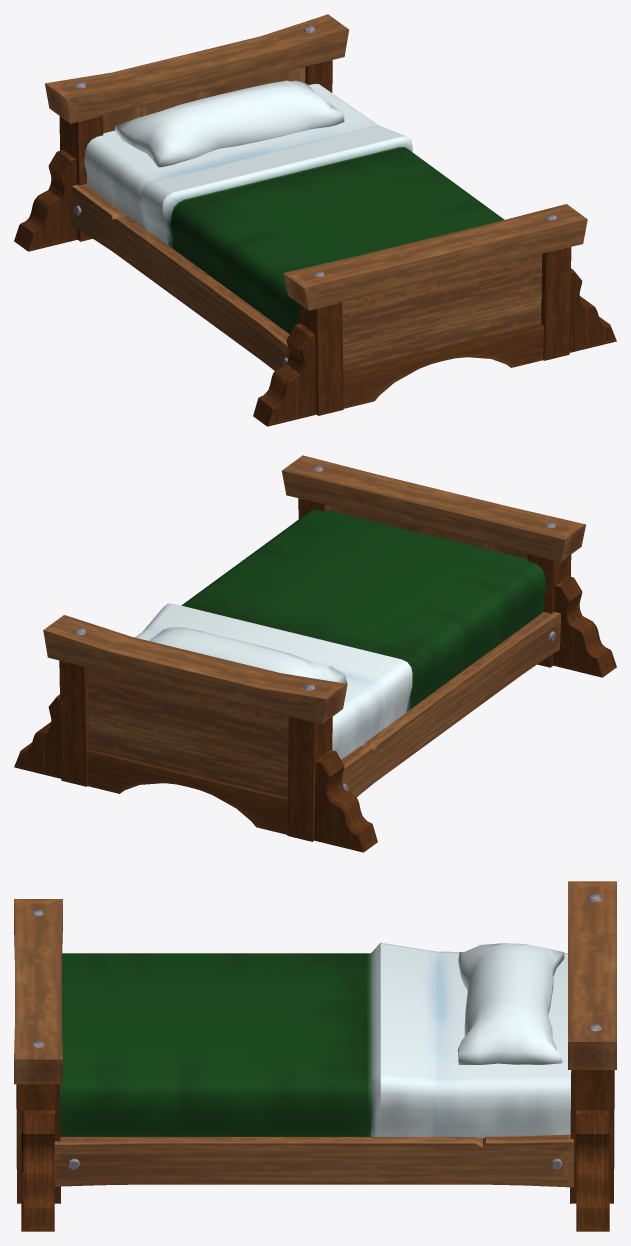
The model's file is bed_twin2.glb.
3 views of the same model, one above another, from view 1: azimuth 30°, elevation 25°; view 2: azimuth 150°, elevation 25°; view 3: azimuth 270°, elevation 25° (orthographic). The views are drawn at different scales.
Visible parts, largest first — view 1: Bed_Twin2; view 2: Bed_Twin2; view 3: Bed_Twin2.
Part boxes in pixels (x1,y1,x2,y2): Bed_Twin2: (14,14,616,426); Bed_Twin2: (14,455,616,852); Bed_Twin2: (14,881,616,1231).
Size of the model in its own units: 1.88 by 0.7596 by 2.41.
Materials: 3 (3 with a texture image).
